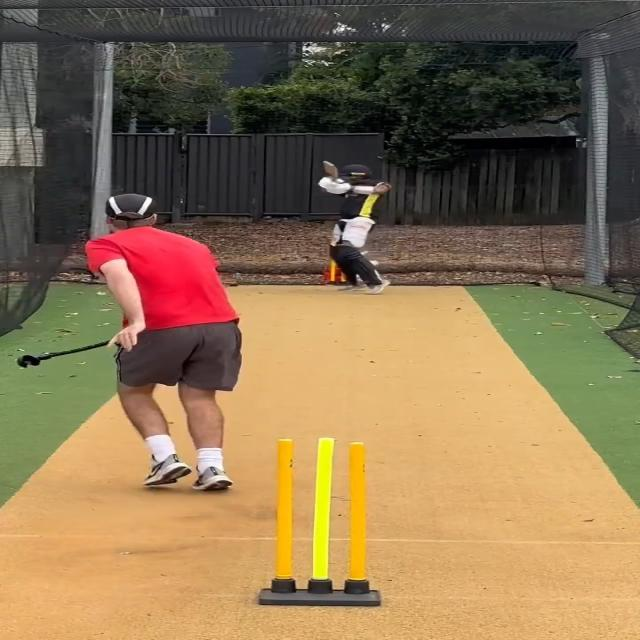stump: (259, 437, 381, 608)
